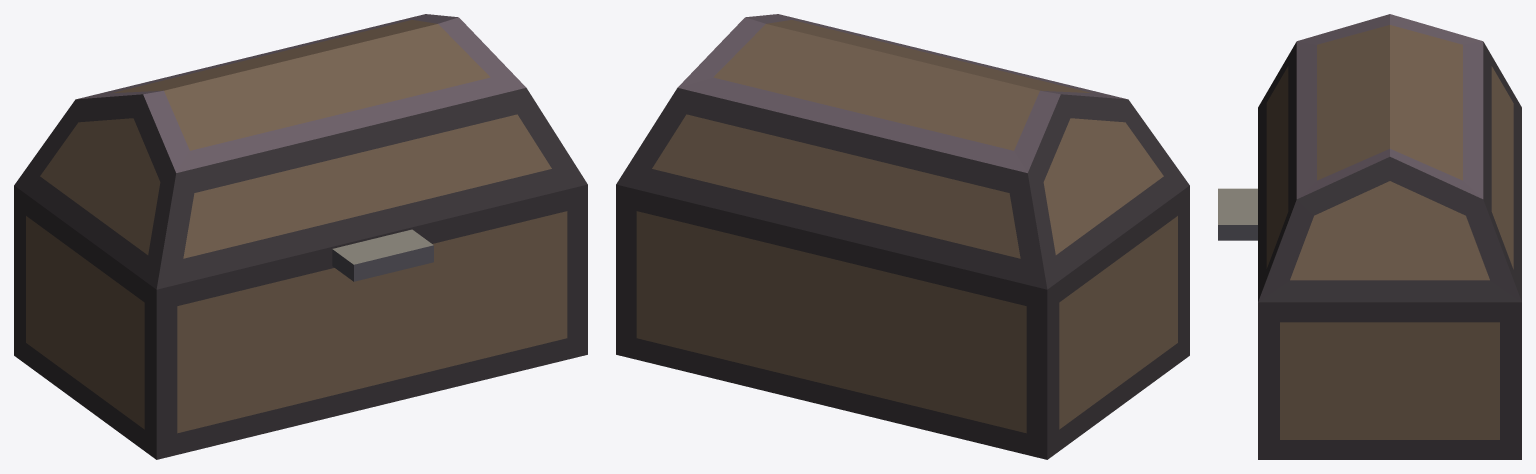
The model's file is TB_D_Prop_ChestC_A.FBX.
3 views of the same model, side by side, from view 1: azimuth 30°, elevation 25°; view 2: azimuth 150°, elevation 25°; view 3: azimuth 270°, elevation 25° (orthographic). The views are drawn at different scales.
Visible parts, largest first — view 1: TB_D_Prop_ChestC_A; view 2: TB_D_Prop_ChestC_A; view 3: TB_D_Prop_ChestC_A.
Part boxes in pixels (x1=…): TB_D_Prop_ChestC_A: x1=14, y1=14, x2=587, y2=459; TB_D_Prop_ChestC_A: x1=616, y1=14, x2=1189, y2=459; TB_D_Prop_ChestC_A: x1=1218, y1=14, x2=1521, y2=459.
Bounding box in the file's own units: 1.05 × 0.6939 × 0.6895.
